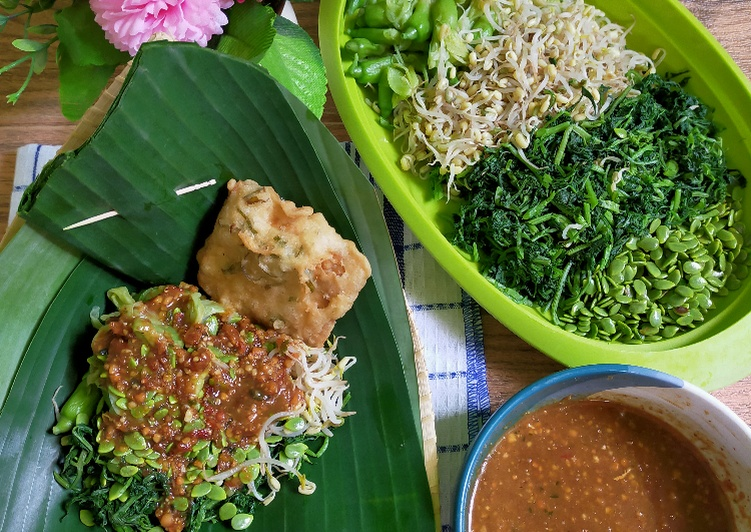pecel: (46, 275, 334, 526)
